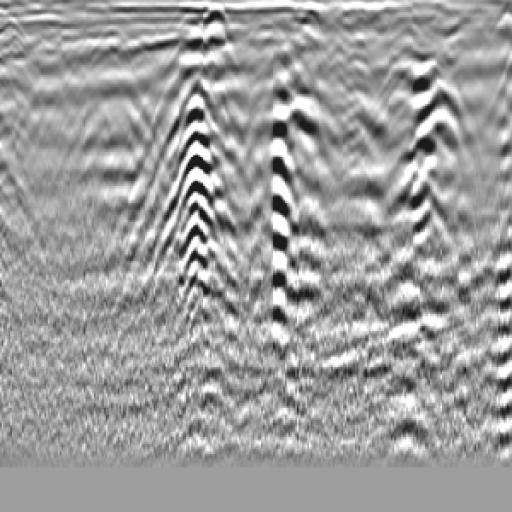metalic: (266, 53, 353, 235)
